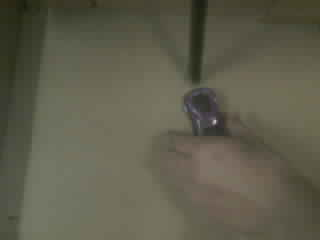Car: (184, 88, 227, 135)
